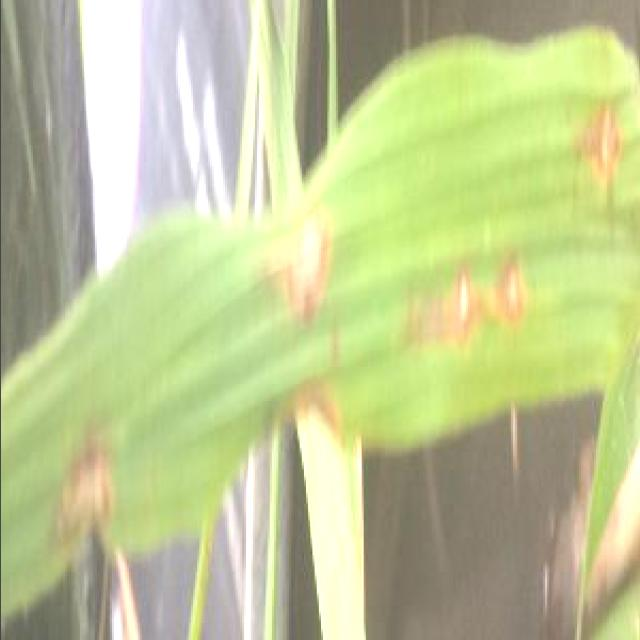Brown_Spot: (408, 228, 540, 340), (273, 204, 339, 324)
